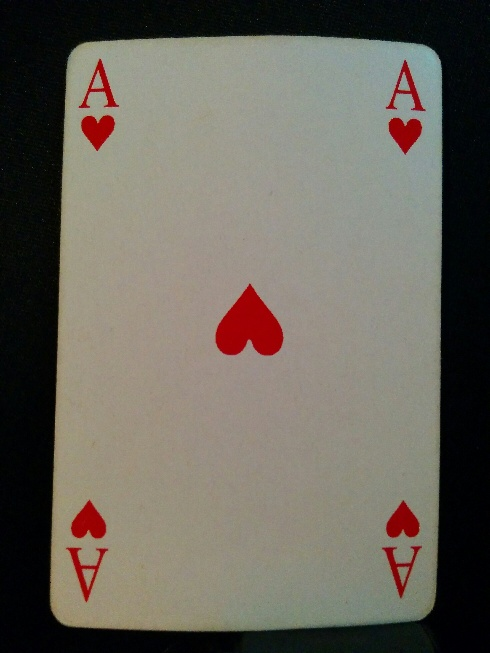Ha: (68, 490, 115, 606), (377, 491, 425, 603), (75, 50, 122, 155), (385, 52, 427, 159)
